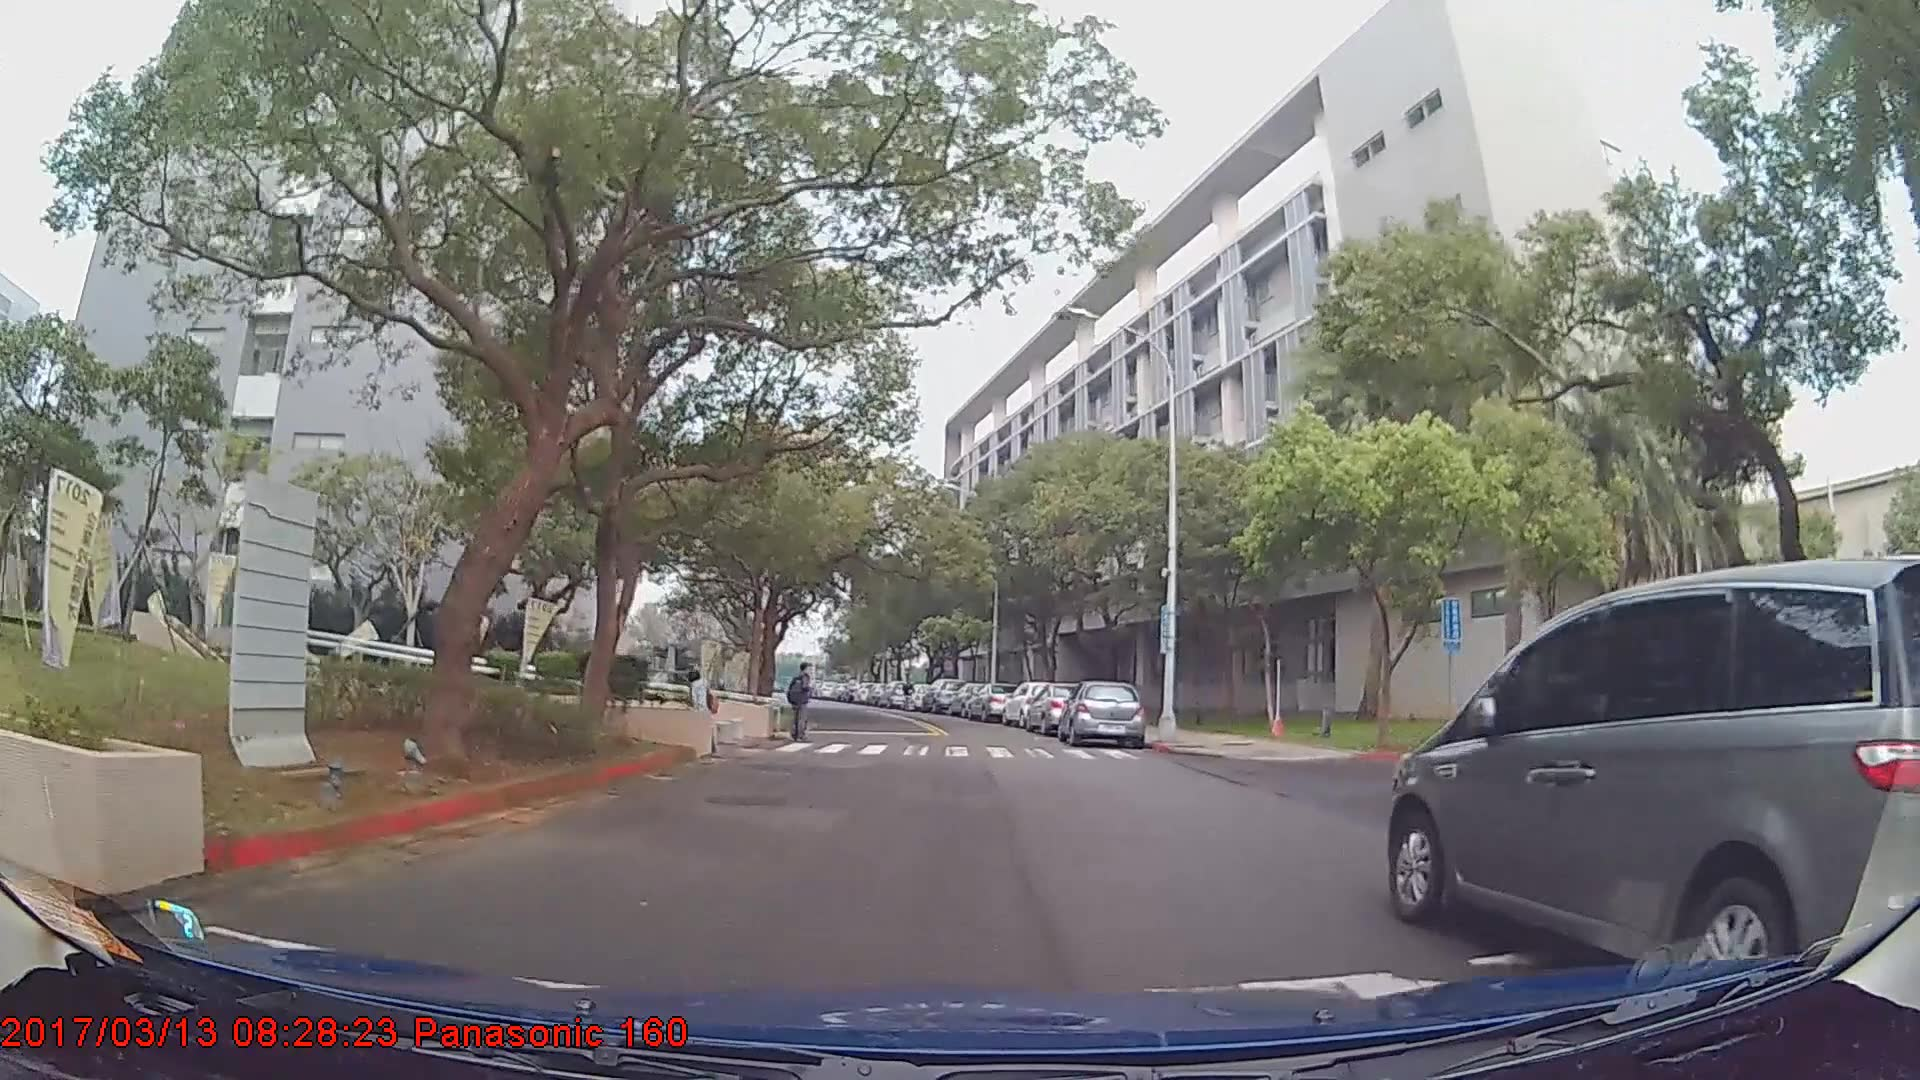pedestrian: (682, 671, 720, 754), (788, 661, 817, 747)
vehicle: (1386, 557, 1920, 986), (1061, 679, 1143, 748), (1021, 679, 1100, 733), (998, 678, 1065, 731), (965, 682, 1014, 720), (921, 677, 964, 713)
